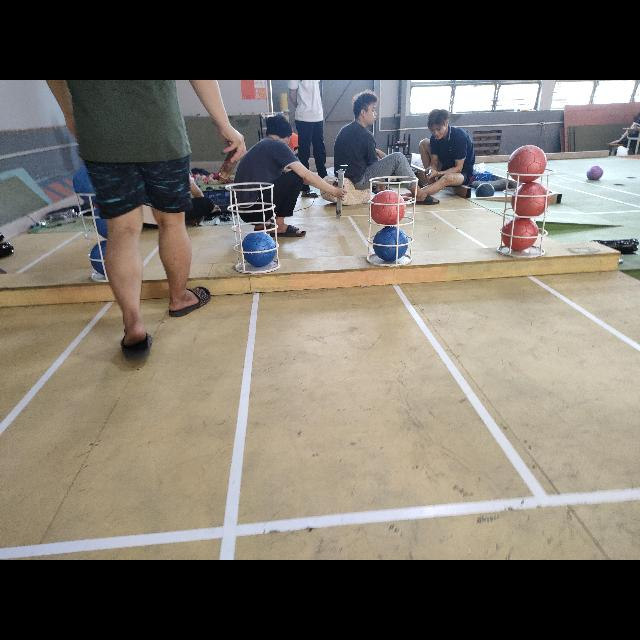B: (242, 232, 278, 268), (372, 226, 408, 262), (70, 164, 102, 204), (90, 240, 116, 274), (95, 205, 113, 243)
R: (500, 216, 540, 252), (512, 182, 550, 218), (370, 189, 406, 225), (510, 146, 546, 180)
